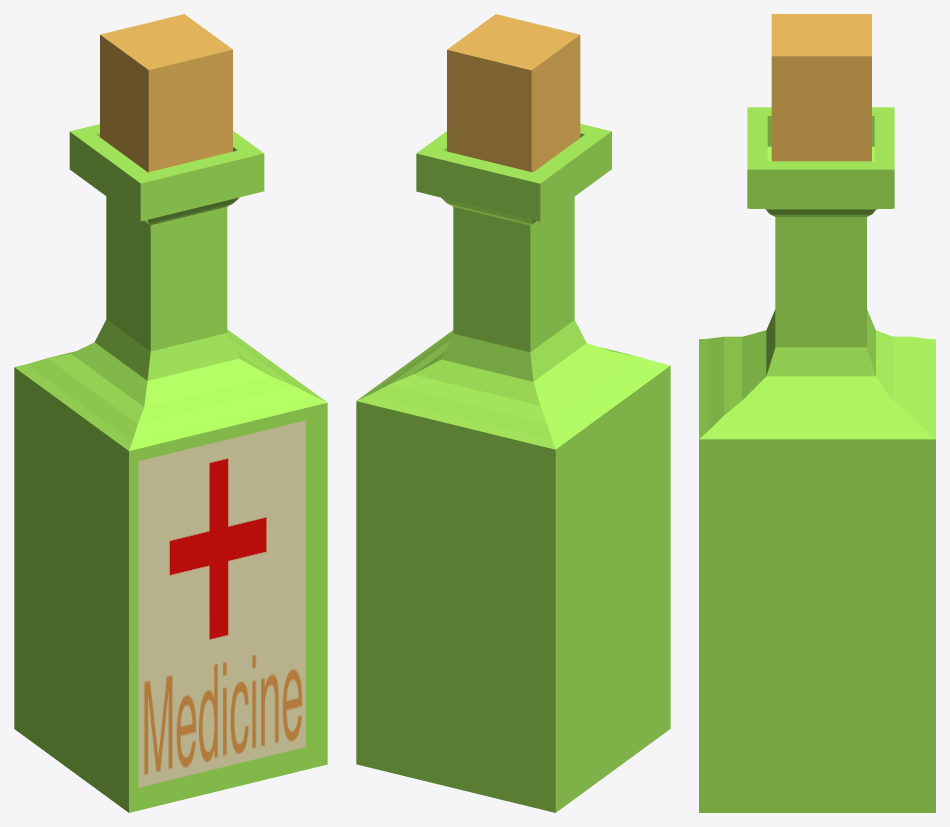
Rendered from HealthIntLJS.fbx.
The picture shows the model from 3 angles, left to right: view 1: azimuth 30°, elevation 25°; view 2: azimuth 150°, elevation 25°; view 3: azimuth 270°, elevation 25°; orthographic projection. The views are drawn at different scales.
Visible parts, largest first — view 1: Cube; view 2: Cube; view 3: Cube.
Part boxes in pixels (x1,y1,x2,y2): Cube: (14, 14, 327, 812); Cube: (356, 14, 670, 812); Cube: (699, 14, 935, 812).
Size of the model in its own units: 200 by 677 by 200.
Materials: 1 (1 with a texture image).
